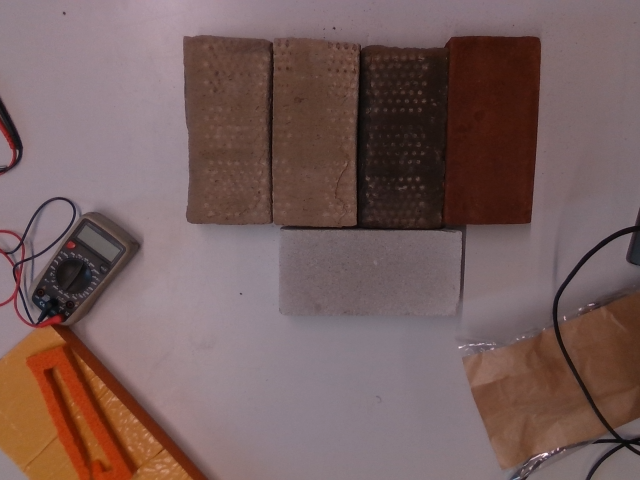brick: (448, 39, 535, 225), (284, 232, 459, 318), (274, 45, 354, 226), (192, 41, 266, 223), (368, 50, 438, 225)
